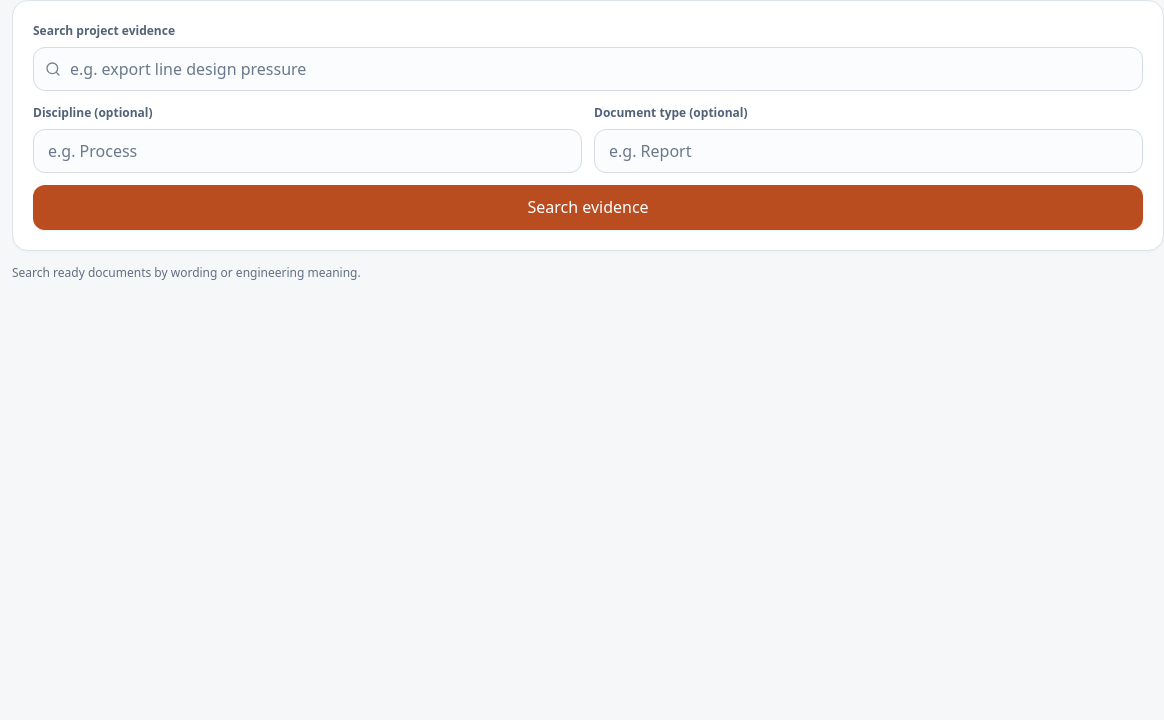
Test: Engineering Search accessibility and reflow › retains the read-only preview's GET-only search and preview-safe marker
The width and height of the screenshot is (1164, 720).
Step 1. Type "design pressure" into the search field labelled "Search project evidence" → [588, 69], box [33,47,1143,91]
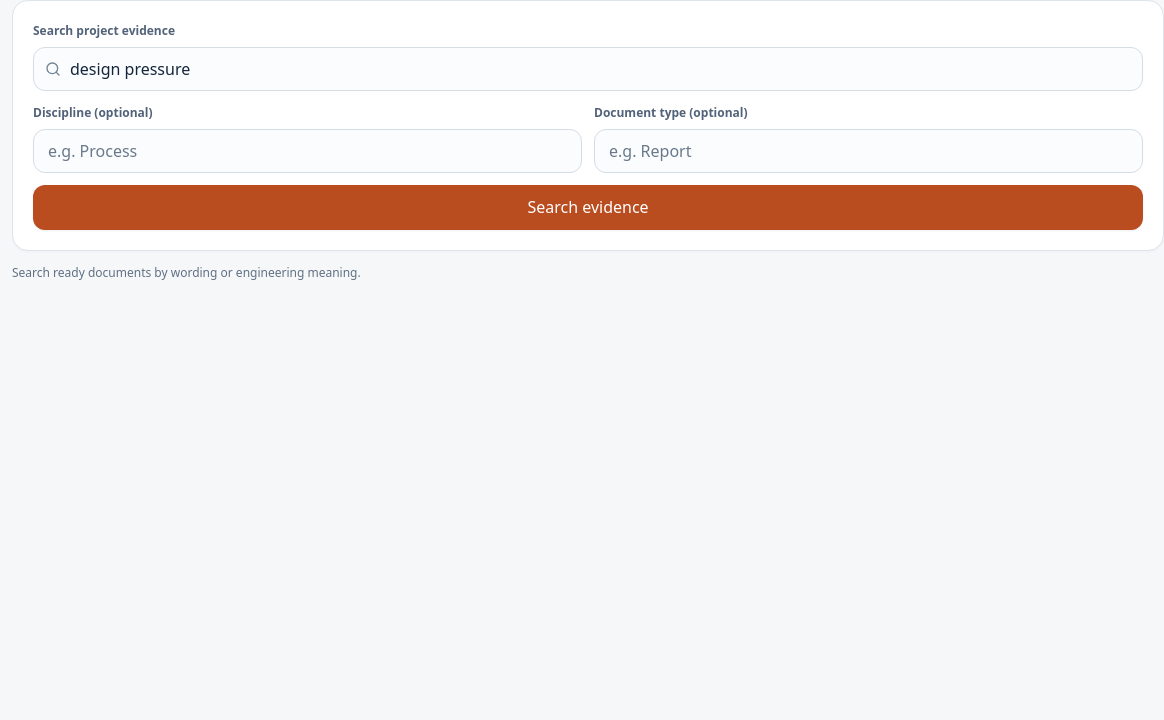
Step 2. Type "Electrical" into the field labelled "Discipline (optional)" → [308, 151], box [33,129,582,173]
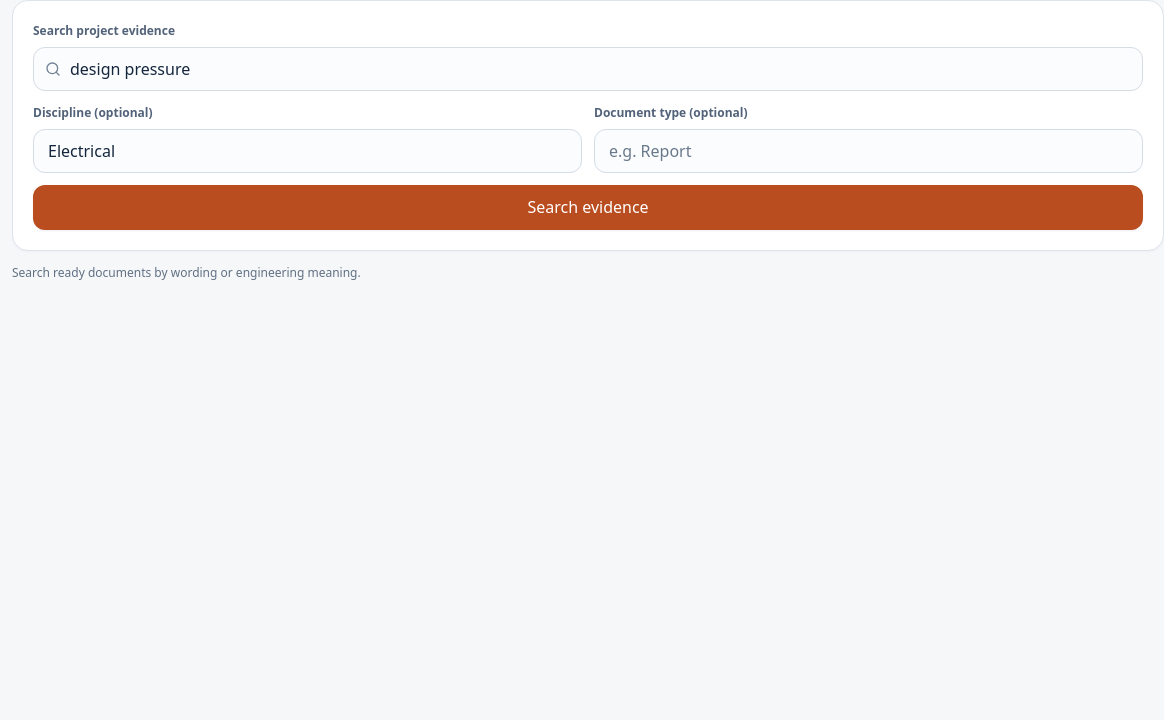
Step 3. Submit the form "Search project evidence", box [12,0,1163,251]
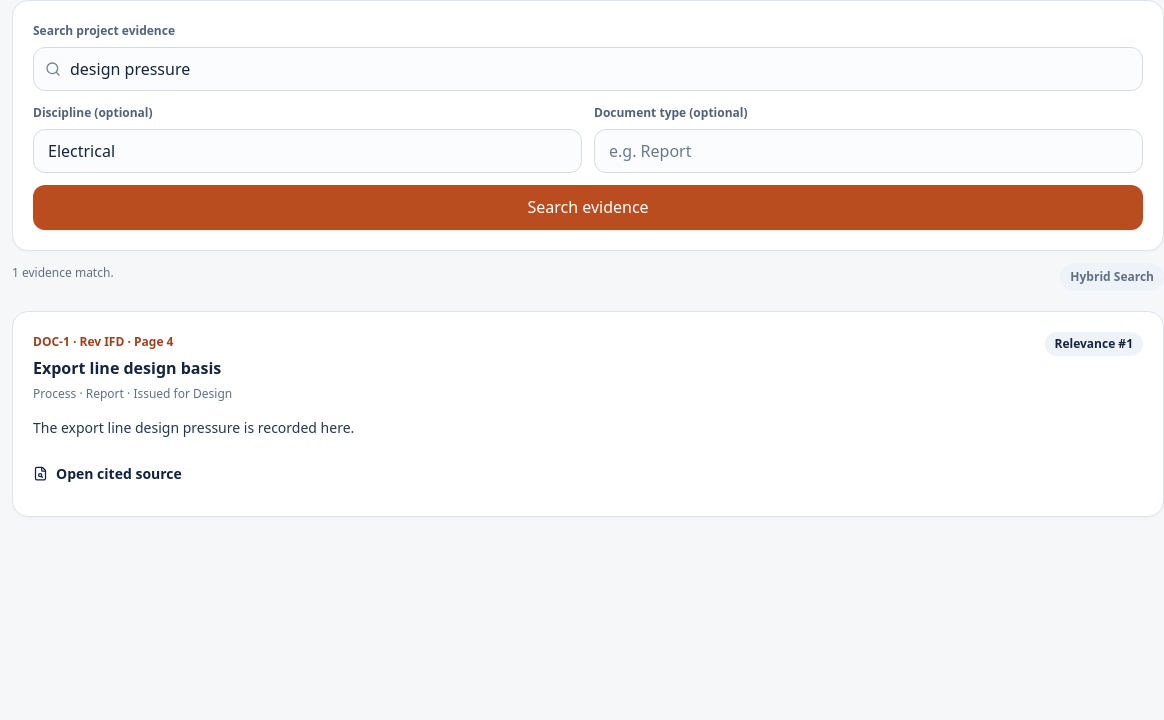
Now the element "Export line design basis" is shown, box [12,311,1163,517]
